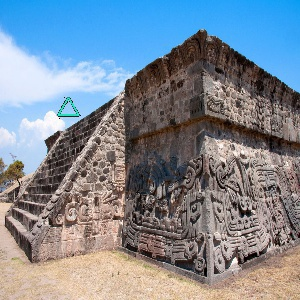triangle: (55, 95, 82, 120)
